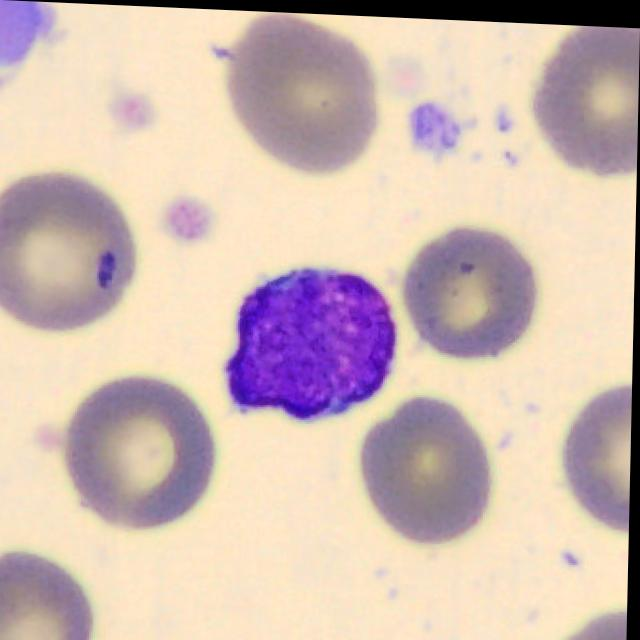Linfocito: (226, 264, 399, 421)
